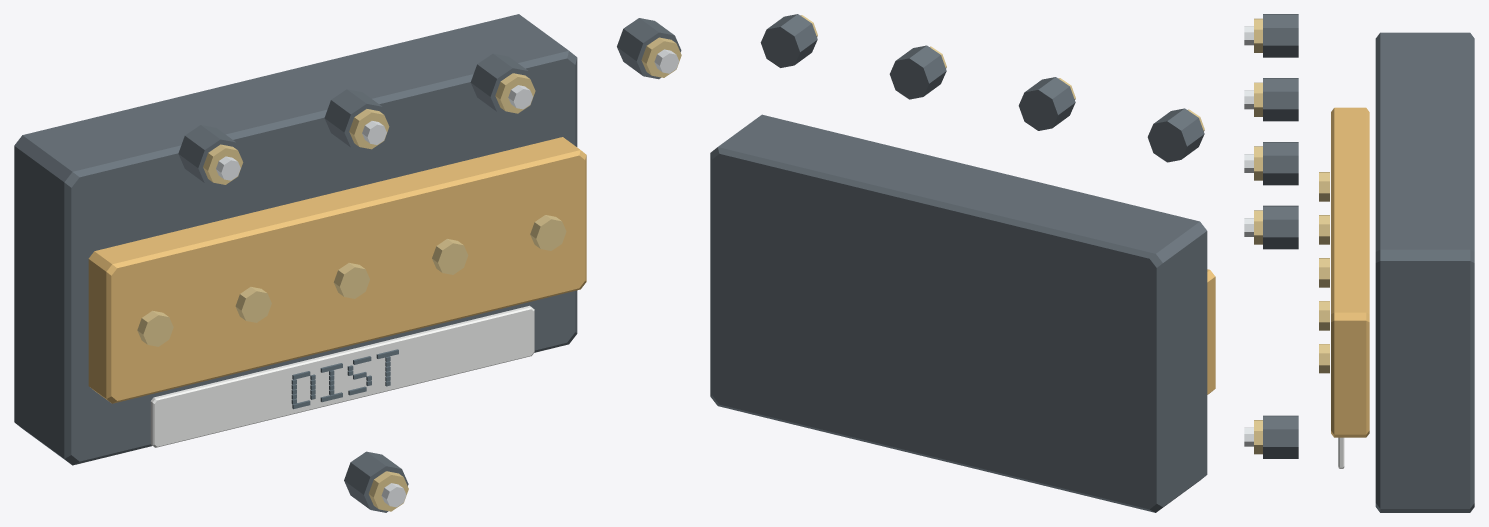
File: distributionBlock.glb
3 renders of one model, left to right at view 1: azimuth 30°, elevation 25°; view 2: azimuth 150°, elevation 25°; view 3: azimuth 270°, elevation 25°, orthographic. The views are drawn at different scales.
Visible parts, largest first — view 1: distributionBlock-board; view 2: distributionBlock-board; view 3: distributionBlock-board.
Boxes of the visible parts, x1,y1,x2,y2 form: distributionBlock-board: [14, 14, 681, 512]; distributionBlock-board: [710, 14, 1215, 512]; distributionBlock-board: [1244, 14, 1474, 512].
Bounding box in the file's own units: 2.36 × 1.69 × 0.9529.
